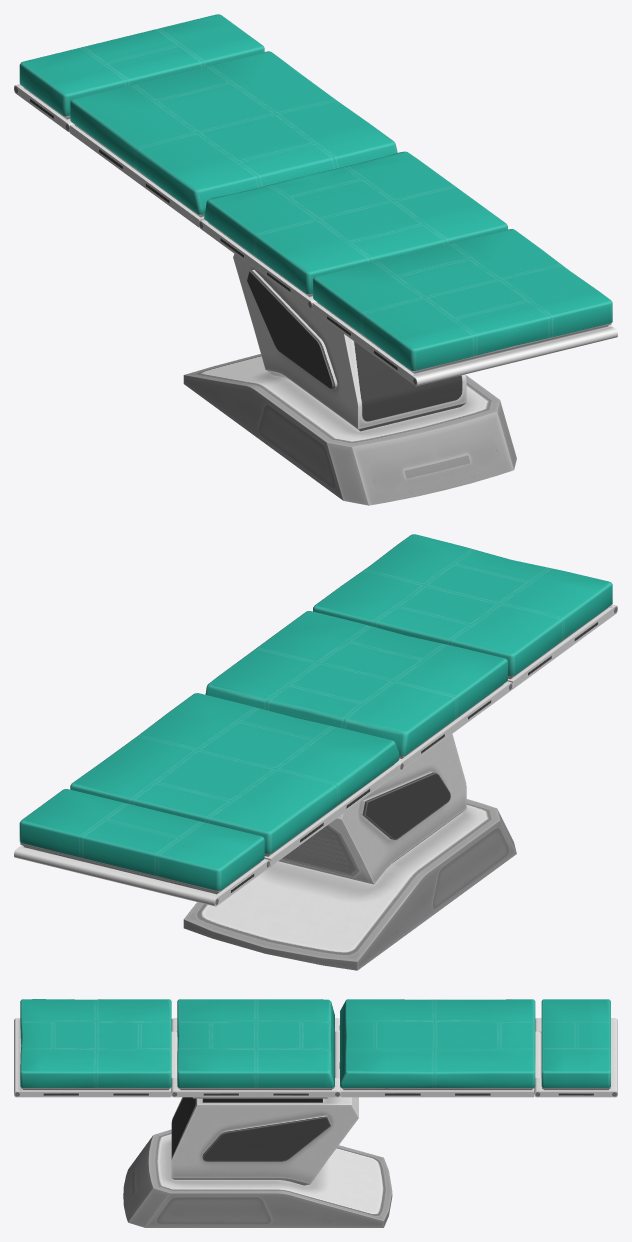
File: MedSurgicalTable02_2.FBX
3 views of the same model, one above another, from view 1: azimuth 30°, elevation 25°; view 2: azimuth 150°, elevation 25°; view 3: azimuth 270°, elevation 25° (orthographic). The views are drawn at different scales.
Parts seen in each view (by area): view 1: Base, Hinge2, Hinge1, Hinge3; view 2: Base, Hinge2, Hinge1, Hinge3; view 3: Base, Hinge2, Hinge1, Hinge3.
Part boxes in pixels (bbox=[...]): Base: bbox=[183, 151, 516, 505]; Hinge2: bbox=[69, 51, 397, 227]; Hinge1: bbox=[312, 229, 617, 386]; Hinge3: bbox=[14, 14, 264, 131]; Base: bbox=[183, 611, 516, 970]; Hinge2: bbox=[70, 693, 399, 866]; Hinge1: bbox=[313, 534, 617, 689]; Hinge3: bbox=[14, 789, 270, 906]; Base: bbox=[123, 999, 392, 1227]; Hinge2: bbox=[335, 999, 541, 1097]; Hinge1: bbox=[14, 999, 177, 1097]; Hinge3: bbox=[534, 999, 617, 1097].
Size of what is drawn, in the model's own units: 0.774 by 0.7843 by 2.65.
